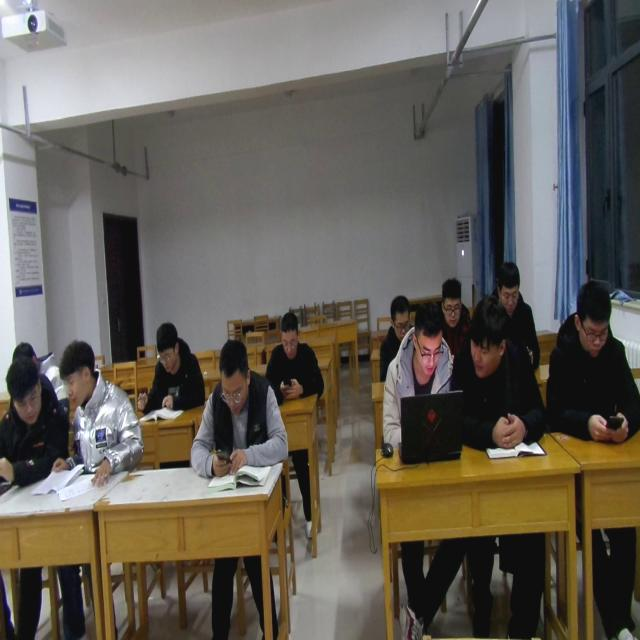down: (568, 276, 616, 356), (214, 334, 254, 418), (5, 353, 44, 429), (411, 296, 446, 376), (492, 262, 524, 322), (152, 318, 182, 378), (272, 308, 304, 361), (384, 292, 416, 344), (435, 274, 464, 326), (8, 338, 41, 373)
sit: (448, 294, 548, 452), (546, 278, 640, 446), (51, 340, 146, 488), (192, 337, 288, 477), (380, 300, 456, 448), (1, 340, 64, 483), (136, 317, 206, 412), (490, 258, 541, 368), (266, 308, 326, 398), (430, 278, 474, 370), (376, 294, 412, 381)
